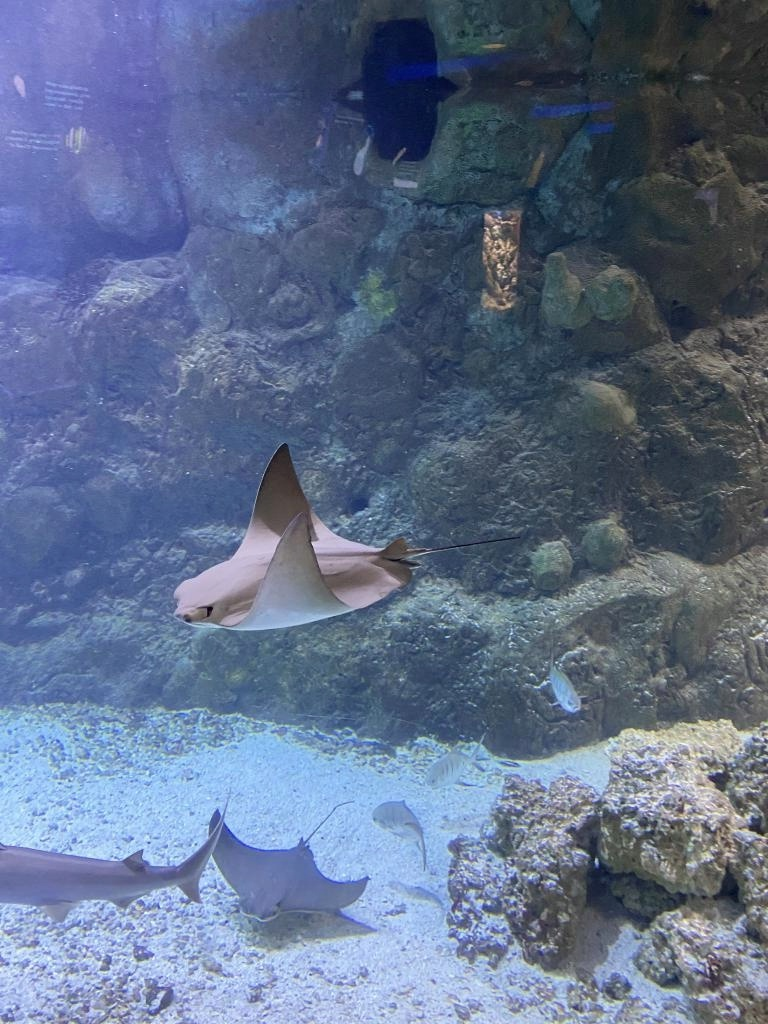fish: (372, 800, 426, 870), (424, 734, 487, 790), (546, 662, 582, 712)
shark: (1, 786, 233, 924)
stingray: (172, 441, 412, 631), (209, 809, 369, 923)
